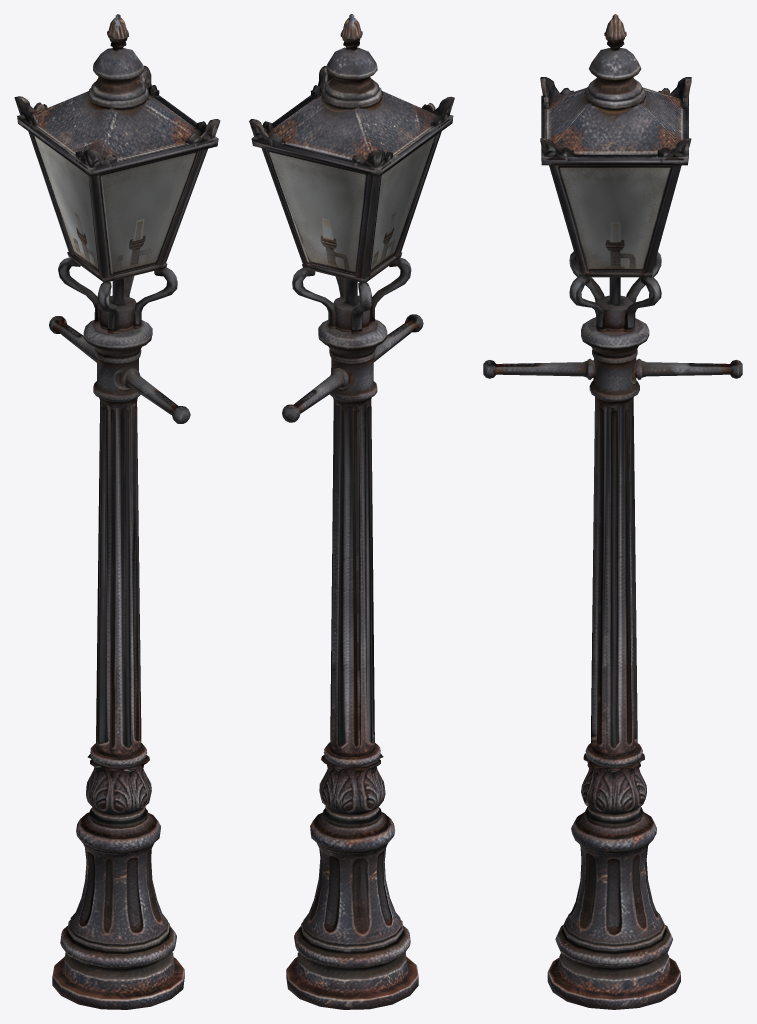
The model's file is SM_Env_SohoGasStreetLamp.fbx.
3 views of the same model, side by side, from view 1: azimuth 30°, elevation 25°; view 2: azimuth 150°, elevation 25°; view 3: azimuth 270°, elevation 25° (orthographic).
Visible parts, largest first — view 1: SM_Env_SohoGasStreetLamp; view 2: SM_Env_SohoGasStreetLamp; view 3: SM_Env_SohoGasStreetLamp.
Part boxes in pixels (x1,y1,x2,y2): SM_Env_SohoGasStreetLamp: [14, 14, 220, 1009]; SM_Env_SohoGasStreetLamp: [249, 14, 454, 1009]; SM_Env_SohoGasStreetLamp: [483, 14, 742, 1009].
Bounding box in the file's own units: 14.93 × 25.49 × 105.
Materials: 1 (1 with a texture image).
